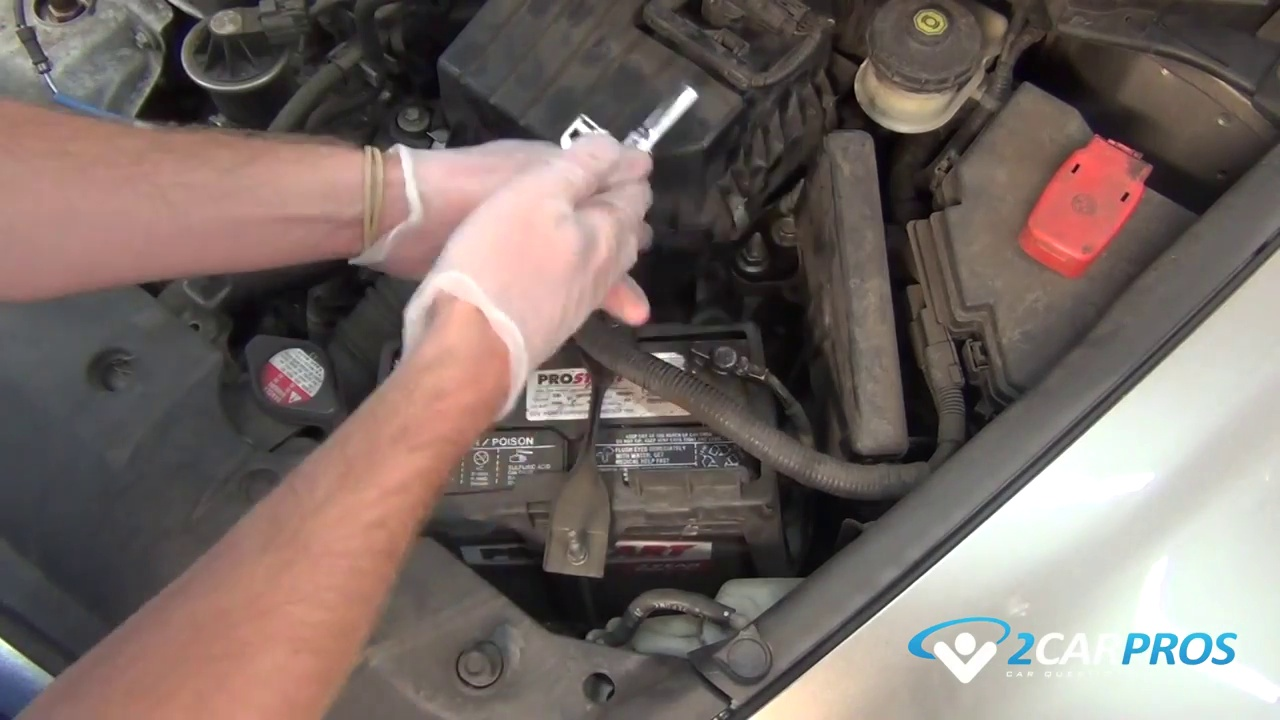battery: (372, 327, 767, 515)
